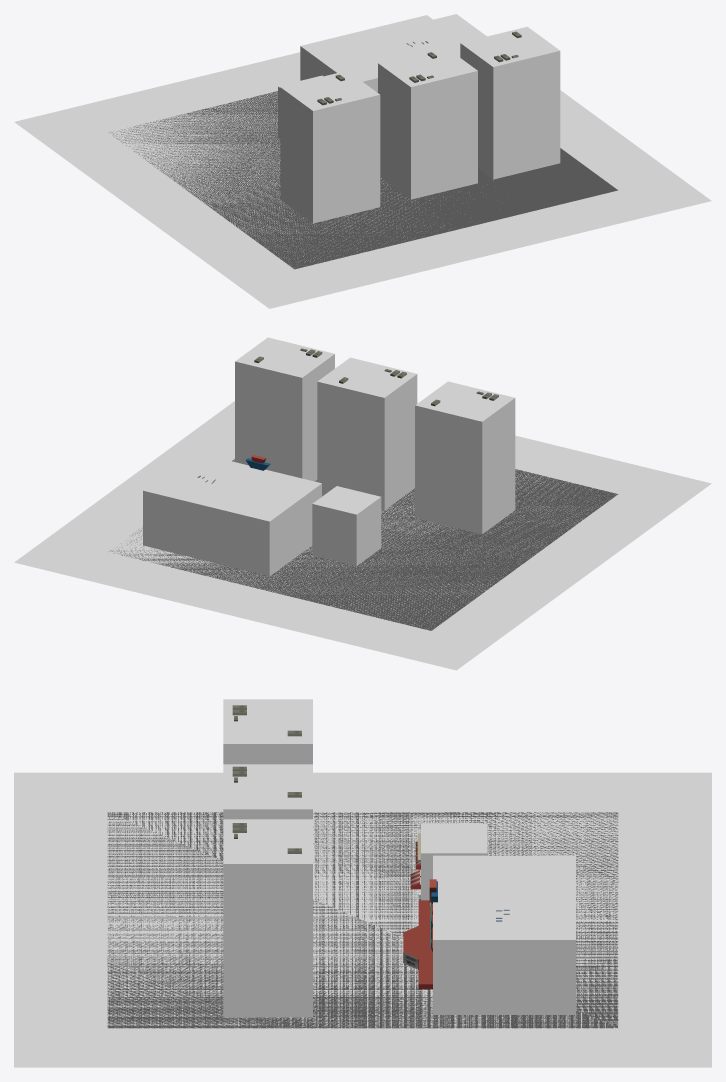
Rendered from town_test.fbx.
3 renders of one model, top to bottom at view 1: azimuth 30°, elevation 25°; view 2: azimuth 150°, elevation 25°; view 3: azimuth 270°, elevation 25°, orthographic. The views are drawn at different scales.
Parts seen in each view (by area): view 1: proxy, floor; view 2: proxy, floor; view 3: proxy, floor, Building_Cinema.
Part boxes in pixels (left/top/right/bottom): proxy: left=14, top=14, right=711, bottom=308; floor: left=108, top=91, right=617, bottom=269; proxy: left=14, top=337, right=711, bottom=670; floor: left=109, top=459, right=617, bottom=630; proxy: left=14, top=699, right=711, bottom=1067; floor: left=107, top=812, right=618, bottom=1028; Building_Cinema: left=403, top=879, right=509, bottom=989.
Size of the model in its own units: 11020 by 2743 by 11020.
Materials: 5 (3 with a texture image).
